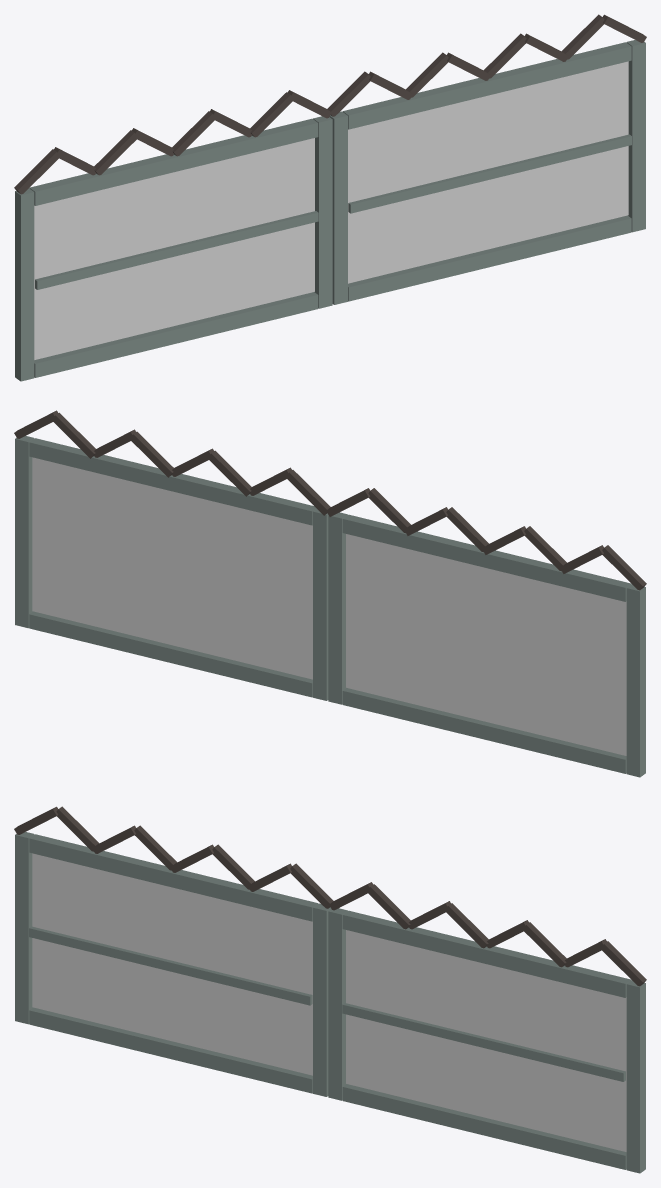
File: SM_PuertaViaDoble_v3_MallaEspino_e0_Sano_LOD1.fbx
3 views of the same model, one above another, from view 1: azimuth 30°, elevation 25°; view 2: azimuth 150°, elevation 25°; view 3: azimuth 330°, elevation 25° (orthographic).
Visible parts, largest first — view 1: Hoja_O, Hoja_E; view 2: Hoja_O, Hoja_E; view 3: Hoja_E, Hoja_O.
Part boxes in pixels (x1=…): Hoja_O: x1=14, y1=90, x2=332, y2=381; Hoja_E: x1=327, y1=14, x2=646, y2=304; Hoja_O: x1=327, y1=488, x2=646, y2=777; Hoja_E: x1=14, y1=410, x2=330, y2=700; Hoja_E: x1=328, y1=882, x2=646, y2=1173; Hoja_O: x1=14, y1=806, x2=333, y2=1096.
Size of what is drawn, in the model's own units: 7.43 by 2.48 by 0.155.
